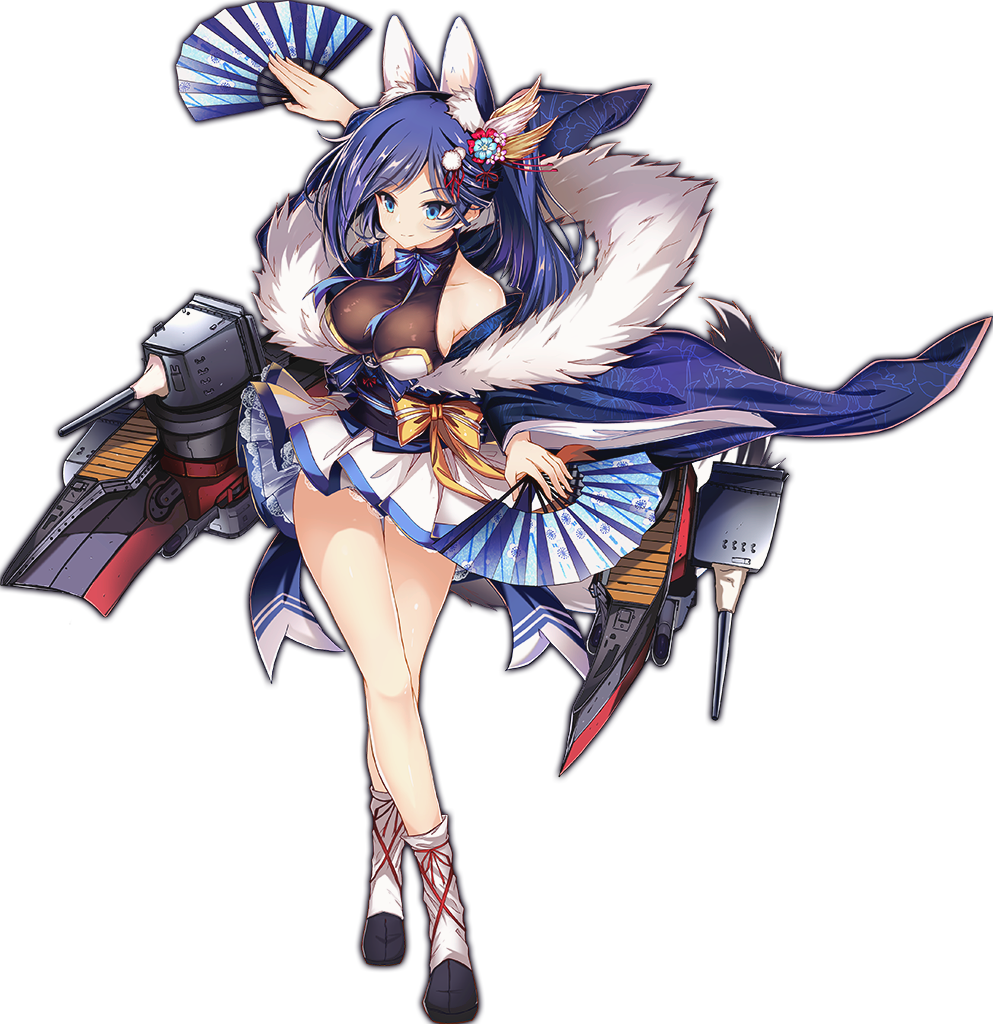person: (133, 76, 653, 755)
